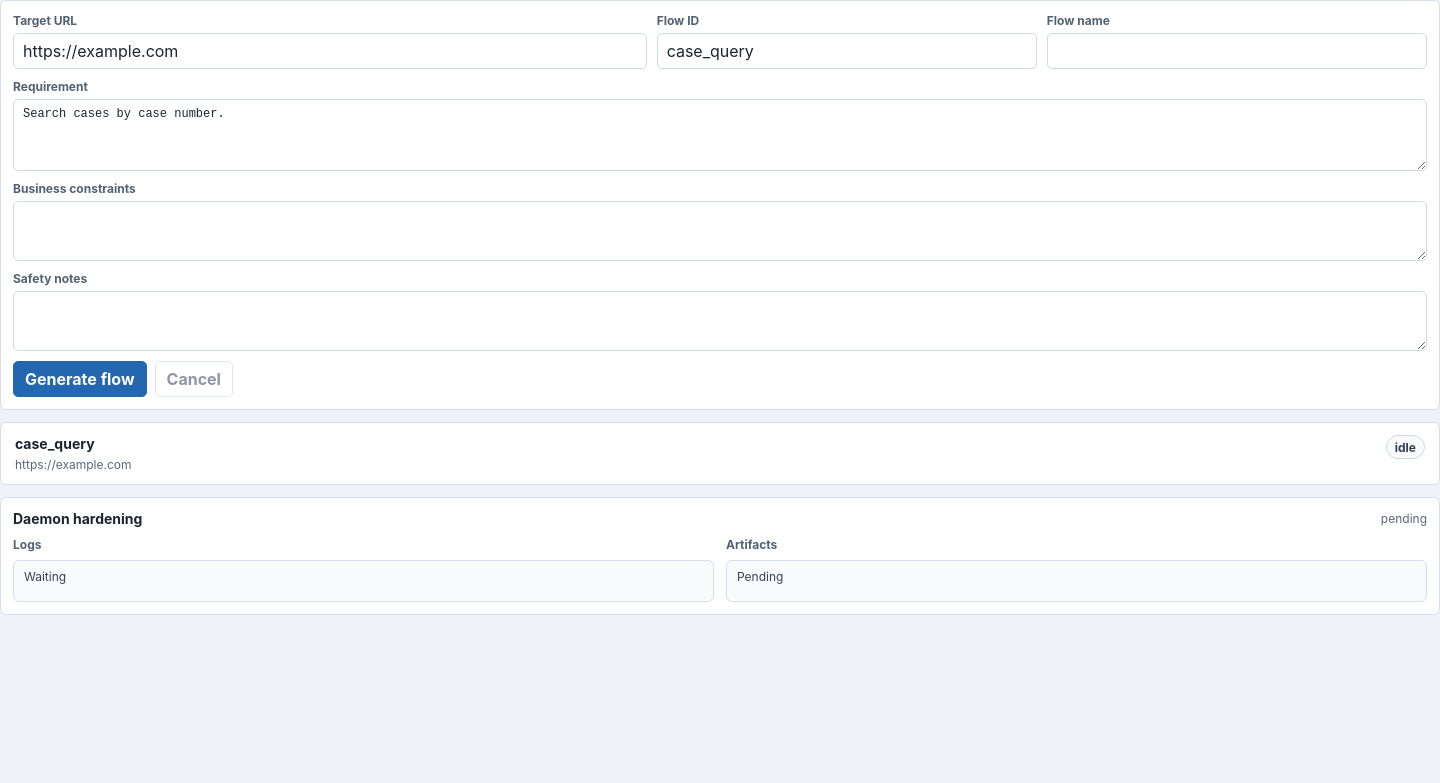
Test: NaturalLanguageWorkspace › opens verification workspace for generated flows without auto-starting
Click the button "Generate flow" at (80, 379), box [13,361,146,397]
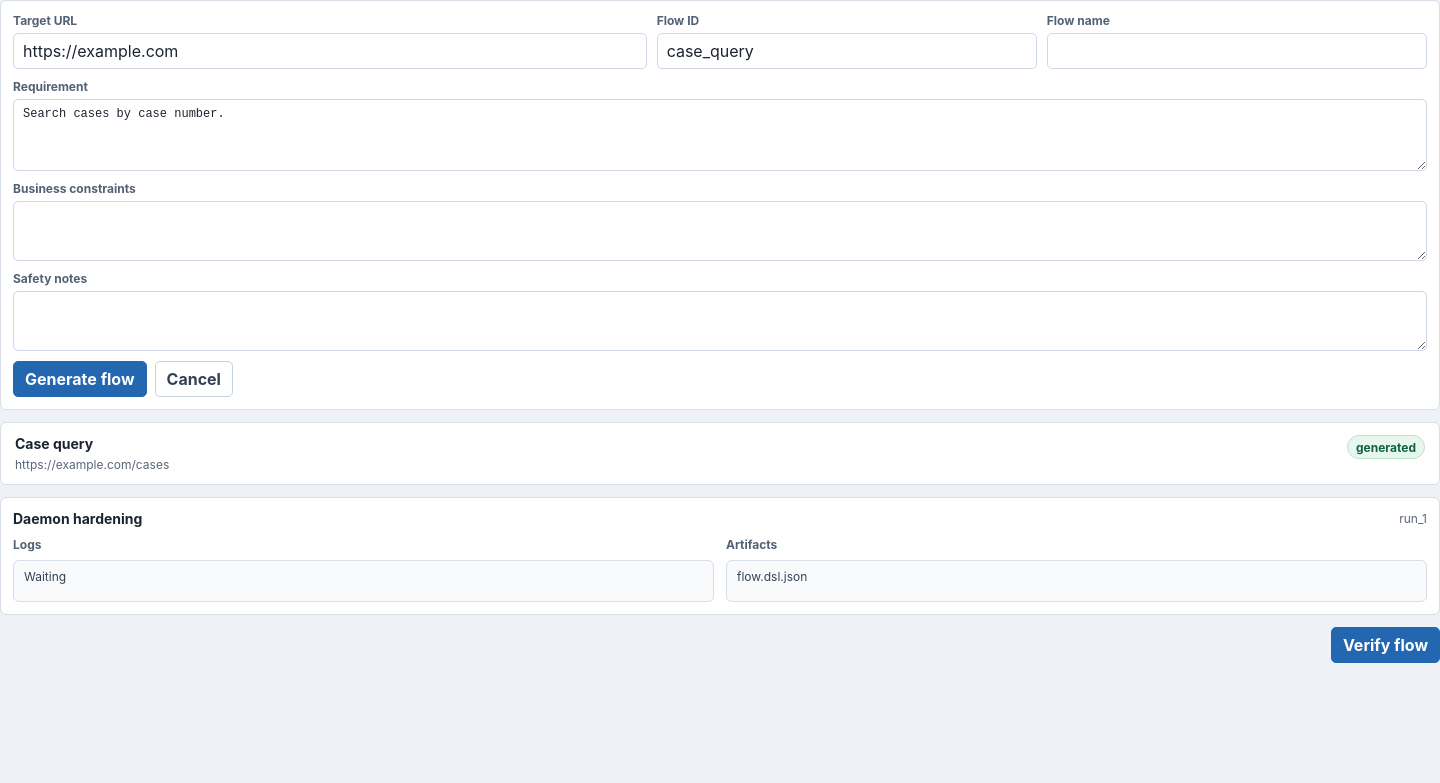
Click the button "Verify flow" at (1385, 645), box [1331,627,1439,663]
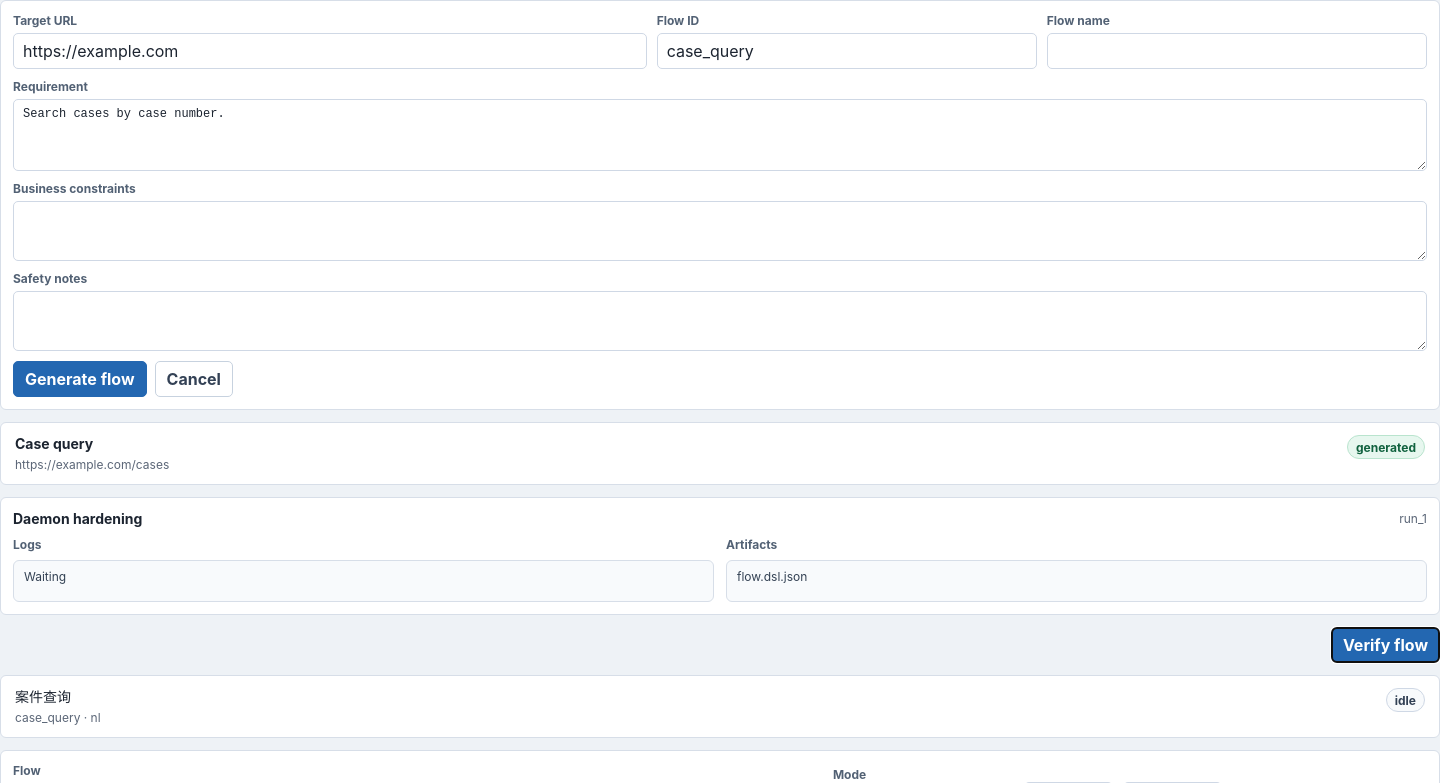
Expected: the heading "案件查询" is shown, [15,688,71,705]
